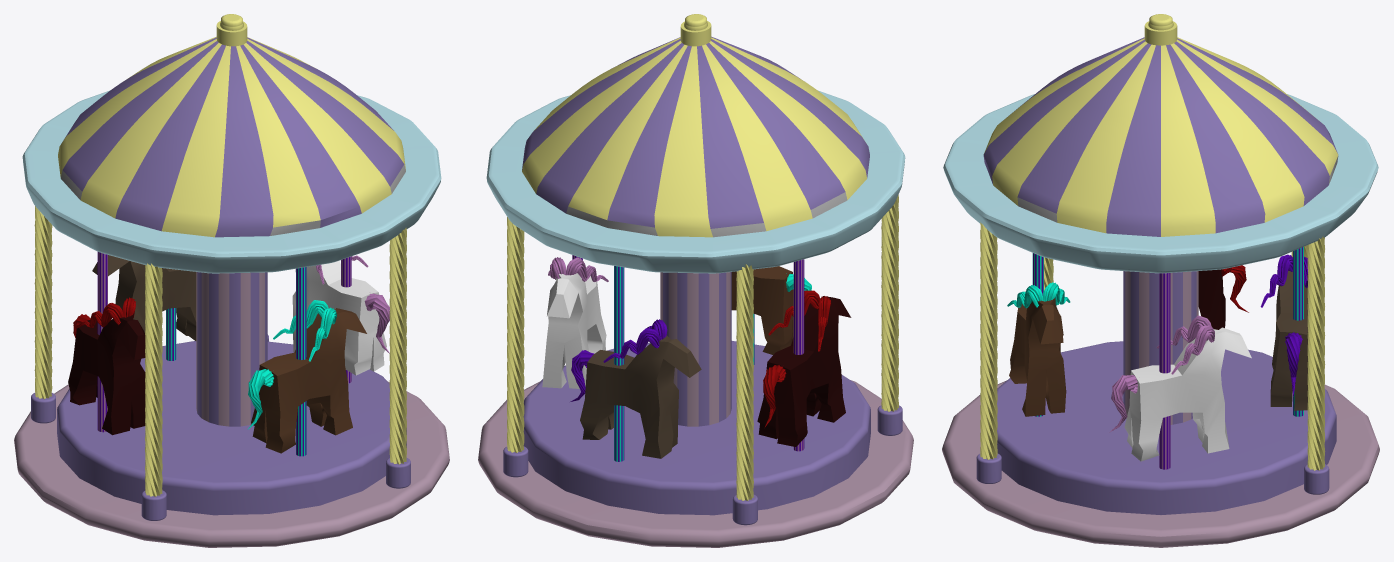
File: Carousel.fbx
The picture shows the model from 3 angles, left to right: view 1: azimuth 30°, elevation 25°; view 2: azimuth 150°, elevation 25°; view 3: azimuth 270°, elevation 25°; orthographic projection.
Parts seen in each view (by area): view 1: pasted__pasted__pCylinder2, pasted__pCylinder2 (×2), Bottom, Horse (×4), sweep1 (×3), Centre, pasted__pCylinder1 (×2), pCylinder3 (×3), Tail (×2), pasted__pasted__pCylinder3, Hair (×2), pasted__pCylinder3 (+1 smaller); view 2: pasted__pasted__pCylinder2, pasted__pCylinder2 (×2), Bottom, Horse (×4), sweep1 (×3), Centre, pCylinder3 (×3), pasted__pCylinder3, pasted__pasted__pCylinder3, Tail (×2), Hair, pasted__pCylinder1 (+1 smaller); view 3: pasted__pasted__pCylinder2, pasted__pCylinder2 (×2), Bottom, Horse (×4), sweep1 (×2), Centre, pasted__pasted__pCylinder1, pCylinder3 (×2), Tail (×2), Hair2 (×2), pasted__pCylinder3, Hair (+1 smaller).
Boxes of the visible parts, x1,y1,x2,y2 form: pasted__pasted__pCylinder2: (58,36,405,237); pasted__pCylinder2 (×2): (14,90,449,547); Bottom: (57,341,406,515); Horse (×4): (68,255,386,453); sweep1 (×3): (34,206,406,496); Centre: (196,272,267,426); pasted__pCylinder1 (×2): (216,21,306,456); pCylinder3 (×3): (31,393,410,520); Tail (×2): (247,293,389,429); pasted__pasted__pCylinder3: (97,252,107,432); Hair (×2): (76,303,337,361); pasted__pCylinder3: (166,308,176,360); pasted__pasted__pCylinder2: (522,36,869,237); pasted__pCylinder2 (×2): (478,90,913,547); Bottom: (523,341,870,515); Horse (×4): (542,266,851,458); sweep1 (×3): (507,194,898,500); Centre: (660,272,731,426); pCylinder3 (×3): (503,405,902,525); pasted__pCylinder3: (614,266,624,461); pasted__pasted__pCylinder3: (793,259,804,451); Tail (×2): (570,350,786,426); Hair: (603,328,660,362); pasted__pCylinder1: (680,21,711,46); pasted__pasted__pCylinder2: (983,37,1338,236); pasted__pCylinder2 (×2): (942,94,1379,547); Bottom: (997,341,1336,514); Horse (×4): (1009,269,1307,461); sweep1 (×2): (980,222,1325,470); Centre: (1123,271,1198,424); pasted__pasted__pCylinder1: (1159,273,1170,469); pCylinder3 (×2): (976,453,1329,494); Tail (×2): (1109,332,1302,432); Hair2 (×2): (1156,254,1292,348); pasted__pCylinder3: (1293,247,1303,416); Hair: (1171,325,1214,374).
Bounding box in the file's own units: 73.97 × 84.68 × 73.97.
